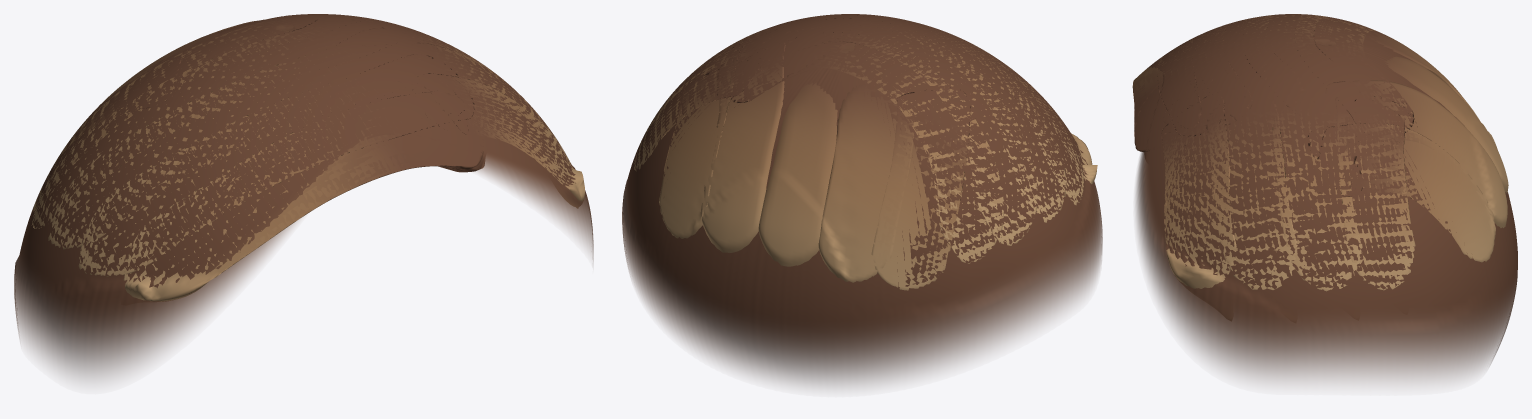
Rendered from Ombre-5ce50f685e44253-hair.glb.
3 views of the same model, side by side, from view 1: azimuth 30°, elevation 25°; view 2: azimuth 150°, elevation 25°; view 3: azimuth 270°, elevation 25° (orthographic). The views are drawn at different scales.
Parts seen in each view (by area): view 1: 226 hair / Hair252 / restored153 fade coverage.001, 226 hair / Hair252 / gentle tonal variation.001, 226 hair / Hair252 / sculpted locks.001; view 2: 226 hair / Hair252 / restored153 fade coverage.001, 226 hair / Hair252 / sculpted locks.001, 226 hair / Hair252 / gentle tonal variation.001; view 3: 226 hair / Hair252 / restored153 fade coverage.001, 226 hair / Hair252 / sculpted locks.001, 226 hair / Hair252 / gentle tonal variation.001.
Boxes of the visible parts, bbox=[...] form: 226 hair / Hair252 / restored153 fade coverage.001: bbox=[14, 14, 593, 379]; 226 hair / Hair252 / gentle tonal variation.001: bbox=[108, 33, 584, 301]; 226 hair / Hair252 / sculpted locks.001: bbox=[31, 14, 566, 276]; 226 hair / Hair252 / restored153 fade coverage.001: bbox=[622, 14, 1102, 386]; 226 hair / Hair252 / sculpted locks.001: bbox=[634, 14, 1083, 290]; 226 hair / Hair252 / gentle tonal variation.001: bbox=[818, 33, 1097, 282]; 226 hair / Hair252 / restored153 fade coverage.001: bbox=[1135, 14, 1517, 382]; 226 hair / Hair252 / sculpted locks.001: bbox=[1157, 14, 1508, 291]; 226 hair / Hair252 / gentle tonal variation.001: bbox=[1132, 25, 1497, 288].
Size of the model in its own units: 0.976 by 0.6423 by 0.7157.
3 materials, 3 textured.
